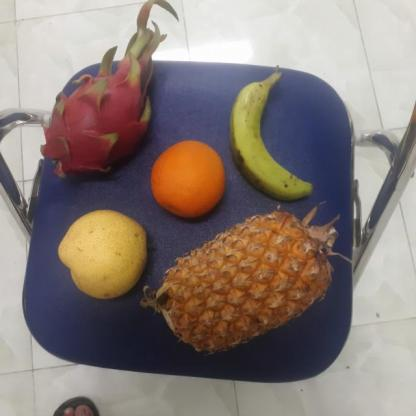banana: (231, 76, 310, 200)
orange: (150, 141, 228, 217)
pear: (56, 210, 154, 300)
pineapple: (154, 212, 338, 359)
pitaya: (48, 58, 158, 181)
